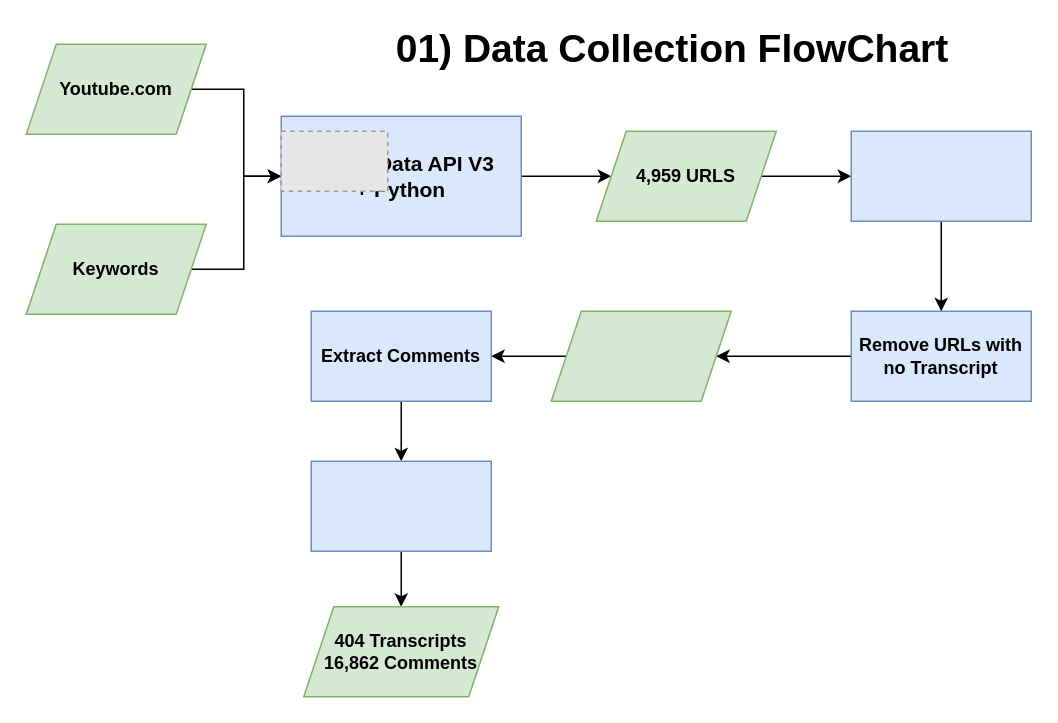
Image size: 1058x723. Some labels were removed from this diagram. Grey dashed boxes stand in for pictures. Here are the shapes that lost their labels. From the top down, the box of each, then its label:
(850, 130, 1031, 221): Extract Transcripts
(550, 310, 731, 401): 795 URLs No Duplicates
(310, 460, 491, 551): Remove URLs + Transcripts W/ No Comments
